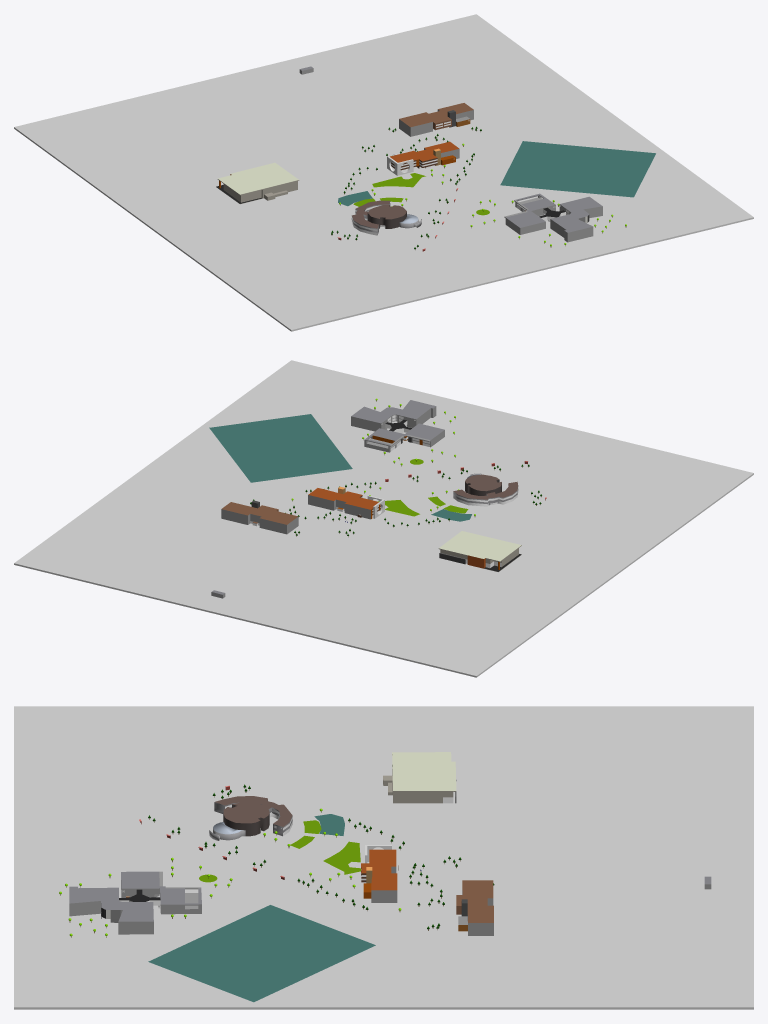
The model's file is MAPA_EXTERIOR_CU.glb.
The picture shows the model from 3 angles, top to bottom: view 1: azimuth 30°, elevation 25°; view 2: azimuth 150°, elevation 25°; view 3: azimuth 270°, elevation 25°; orthographic projection. The views are drawn at different scales.
Visible parts, largest first — view 1: Terrain, estacionamiento_1, Gimanasio multifincional UACJ CU.002, Edificio B, Edificio C, Edificio A, Edificio D3, Edificio D2, Edificio D4, Edificio D1; view 2: Terrain, estacionamiento_1, Gimanasio multifincional UACJ CU.002, Edificio B, Edificio C, Edificio A, Edificio D3, Edificio D4, Edificio D1, Edificio D2; view 3: Terrain, estacionamiento_1, Gimanasio multifincional UACJ CU.002, Edificio A, Edificio B, Edificio C, Edificio D4, Edificio D3, Edificio D1, Edificio D2, element.025, estacionamiento_2.
Part boxes in pixels (box(x1,y1,x2,y2)): Terrain: box(14, 14, 753, 331); estacionamiento_1: box(500, 141, 655, 197); Gimanasio multifincional UACJ CU.002: box(216, 162, 299, 204); Edificio B: box(399, 103, 473, 136); Edificio C: box(387, 141, 459, 175); Edificio A: box(351, 200, 406, 235); Edificio D3: box(550, 213, 593, 242); Edificio D2: box(504, 210, 545, 234); Edificio D4: box(559, 196, 602, 220); Edificio D1: box(514, 193, 555, 216); Terrain: box(14, 360, 753, 677); estacionamiento_1: box(209, 414, 352, 482); Gimanasio multifincional UACJ CU.002: box(438, 531, 521, 571); Edificio B: box(221, 500, 298, 534); Edificio C: box(308, 486, 384, 519); Edificio A: box(453, 474, 518, 506); Edificio D3: box(389, 400, 436, 427); Edificio D4: box(351, 406, 394, 431); Edificio D1: box(364, 428, 405, 452); Edificio D2: box(405, 423, 444, 447); Terrain: box(14, 706, 753, 1009); estacionamiento_1: box(148, 905, 375, 1002); Gimanasio multifincional UACJ CU.002: box(383, 752, 456, 803); Edificio A: box(214, 796, 292, 836); Edificio B: box(456, 880, 493, 935); Edificio C: box(361, 845, 398, 902); Edificio D4: box(104, 901, 153, 934); Edificio D3: box(69, 886, 120, 917); Edificio D1: box(158, 886, 201, 914); Edificio D2: box(121, 871, 164, 897); element.025: box(323, 841, 360, 874); estacionamiento_2: box(314, 814, 344, 835).
Bounding box in the file's own units: 605 × 20.07 × 629.
